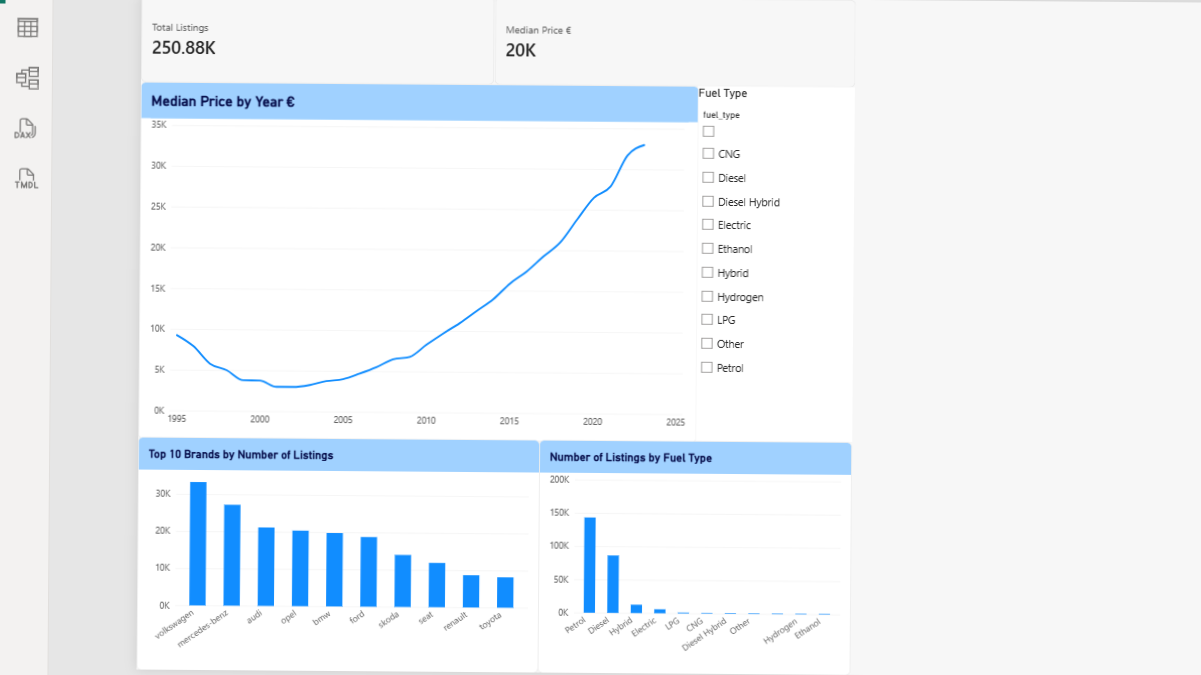

What the dashboard file says about the page in this screenshot:
{"tool":"powerbi","page":{"name":"Page 1","canvas":[1920,1080],"ordinal":0},"visuals":[{"type":"cardVisual","fields":{"Data":["CountNonNull(cars_clean.model)"]},"box":[0,0,565,140],"z":0},{"type":"cardVisual","fields":{"Data":["Median(cars_clean.price_in_euro)"]},"box":[565,0,577.5,140],"z":1000},{"type":"lineChart","title":"Median Price by Year €","fields":{"Category":["cars_clean.year"],"Y":["Median(cars_clean.price_in_euro)"]},"box":[0,140,892.5,570],"z":2000},{"type":"clusteredColumnChart","title":"Top 10 Brands by Number of Listings","fields":{"Category":["cars_clean.brand"],"Y":["CountNonNull(cars_clean.brand)"]},"box":[0,707.5,642.5,372.5],"z":3000},{"type":"clusteredColumnChart","title":"Number of Listings by Fuel Type","fields":{"Category":["cars_clean.fuel_type"],"Y":["CountNonNull(cars_clean.brand)"]},"box":[642.5,707.5,500,372.5],"z":4000},{"type":"slicer","title":"Fuel Type","fields":{"Values":["cars_clean.fuel_type"]},"box":[892.5,140,250,567.5],"z":5000}]}

Visuals, with their boxes in screenshot pixels (x1, y1, x2, y2):
cardVisual - CountNonNull(cars_clean.model): <region>47, 31, 383, 115</region>
cardVisual - Median(cars_clean.price_in_euro): <region>383, 31, 727, 115</region>
"Median Price by Year €" lineChart: <region>47, 115, 578, 454</region>
"Top 10 Brands by Number of Listings" clusteredColumnChart: <region>47, 452, 429, 674</region>
"Number of Listings by Fuel Type" clusteredColumnChart: <region>429, 452, 727, 674</region>
"Fuel Type" slicer: <region>578, 115, 727, 452</region>
